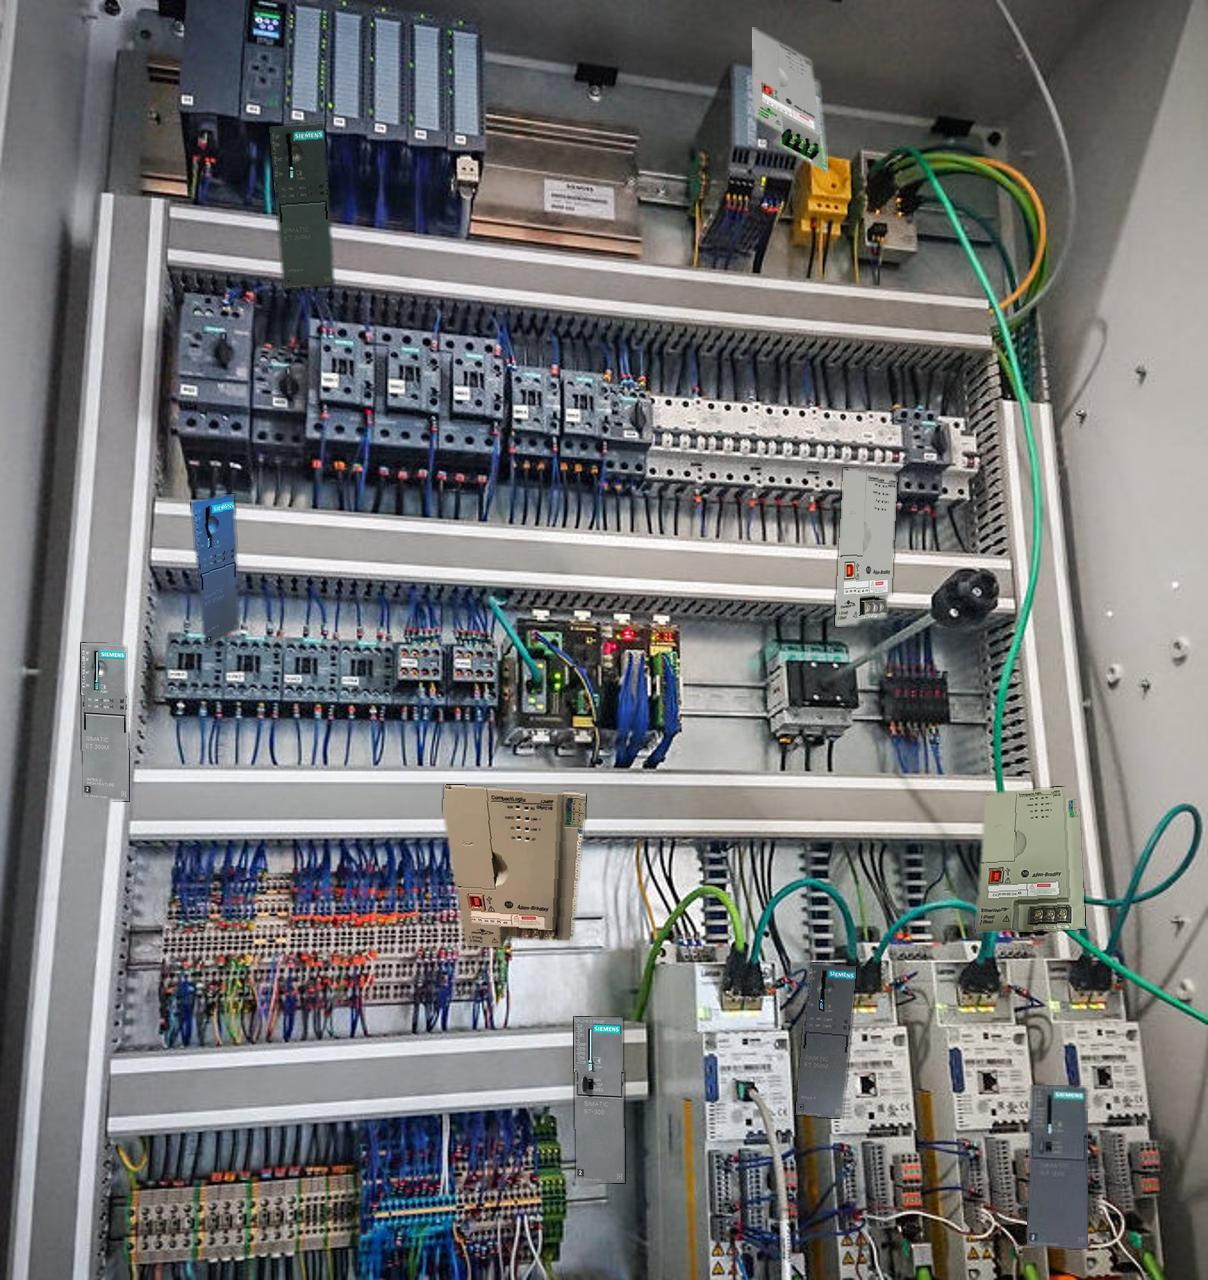AllenBradley: (443, 784, 585, 947), (976, 787, 1085, 931), (752, 27, 827, 171), (834, 468, 897, 626)
Siemens: (1027, 1085, 1087, 1248), (574, 1017, 624, 1182)
